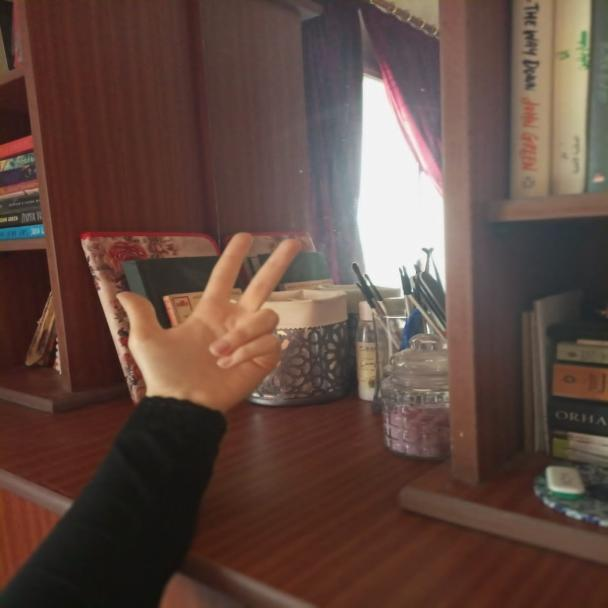three: (90, 218, 334, 429)
